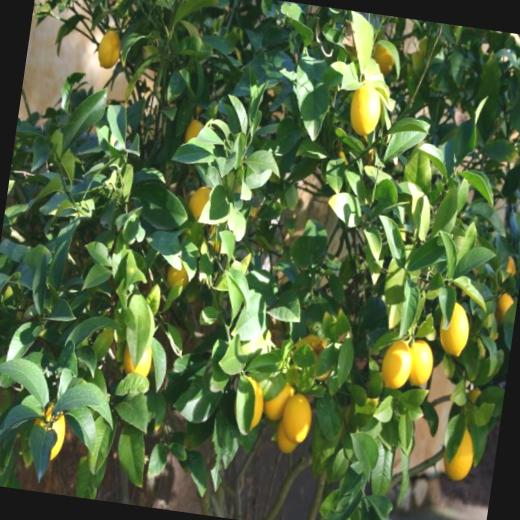Grape: (346, 71, 391, 133), (442, 418, 478, 484), (442, 300, 477, 362), (380, 338, 413, 396), (280, 388, 312, 446), (264, 374, 294, 425), (120, 340, 154, 384), (408, 340, 438, 382), (93, 22, 123, 63), (183, 187, 212, 229), (278, 413, 300, 458), (163, 258, 190, 292), (244, 383, 264, 427), (182, 114, 206, 150)
